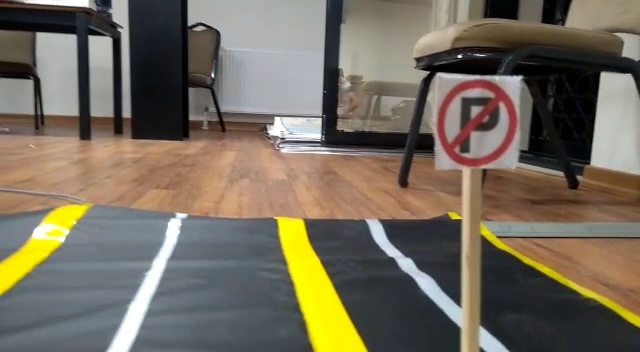park_yapilmaz: (434, 74, 517, 167)
